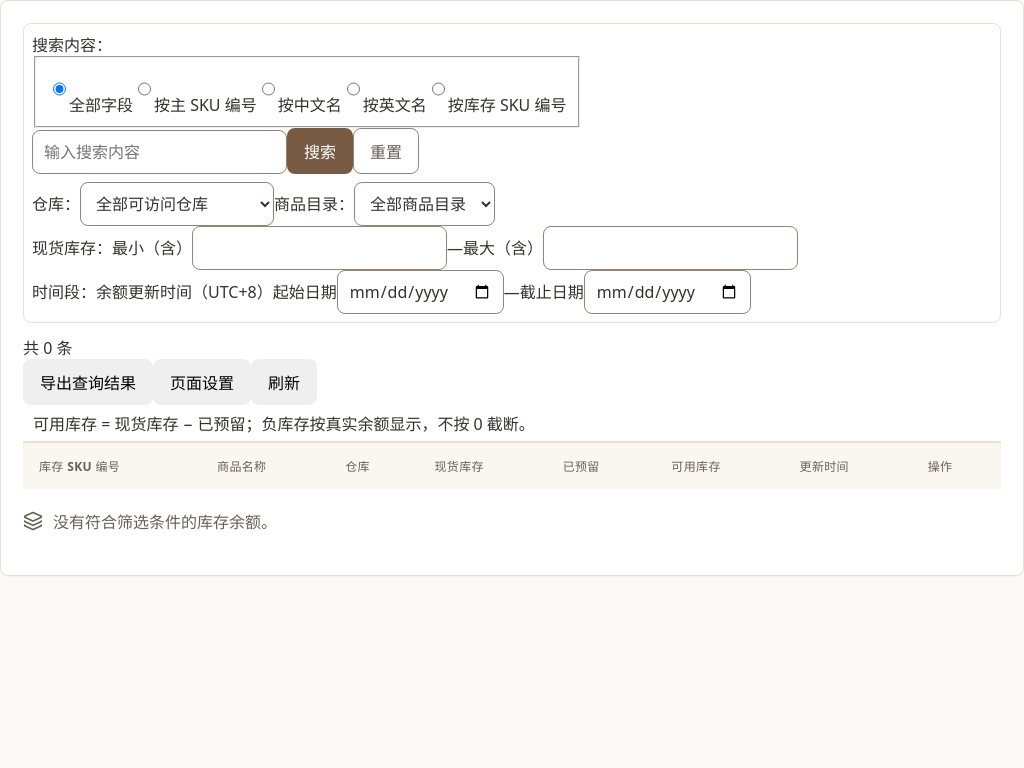
Scenario: InventoryQueryPage › rejects an inverted on-hand quantity range near the fields
The width and height of the screenshot is (1024, 768).
expect the table named "库存余额列表" is shown: met, box [23, 442, 1001, 489]
Type "10" into the number field named "现货库存最小值（含）" at coordinates (320, 248), box [192, 226, 447, 270]
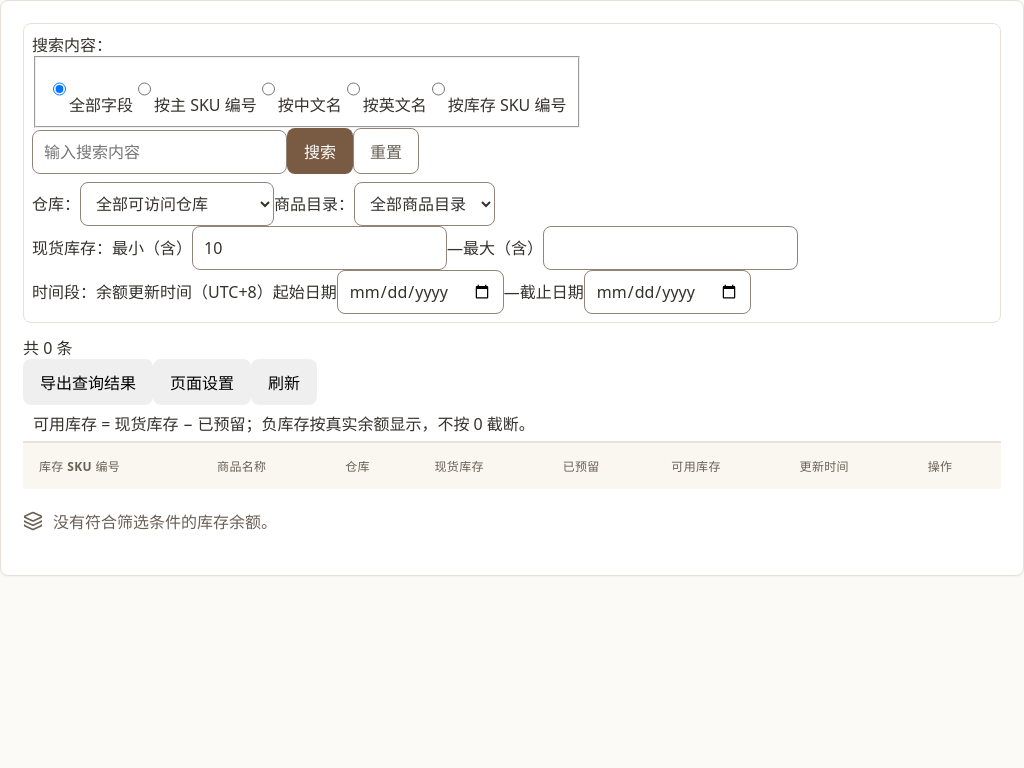
Type "-2" into the number field named "现货库存最大值（含）" at coordinates (671, 248), box [543, 226, 798, 270]
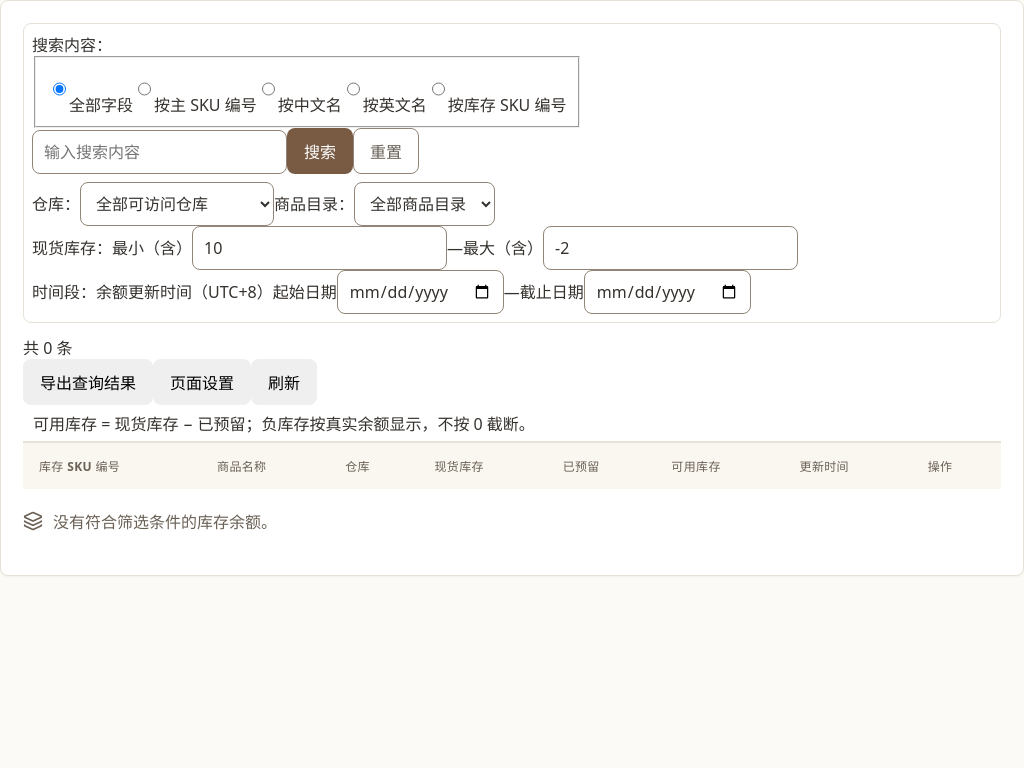
Click the button "搜索" at coordinates (320, 151), box [287, 128, 353, 174]
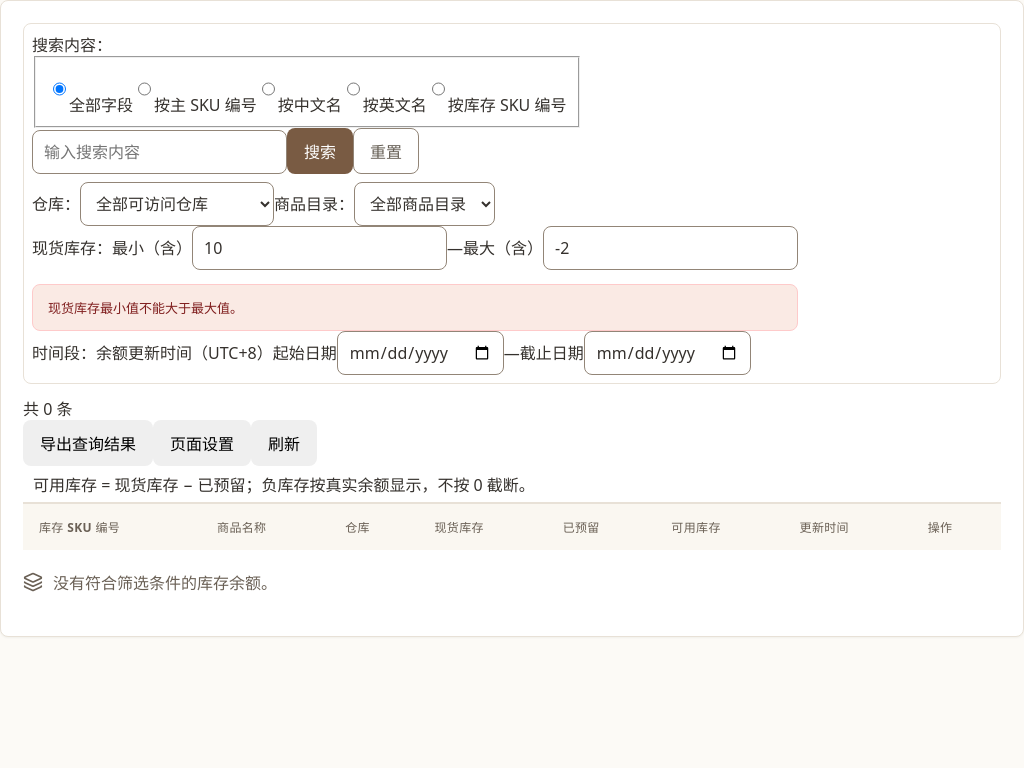
expect the message shows "现货库存最小值不能大于最大值": met, box [48, 299, 243, 317]
